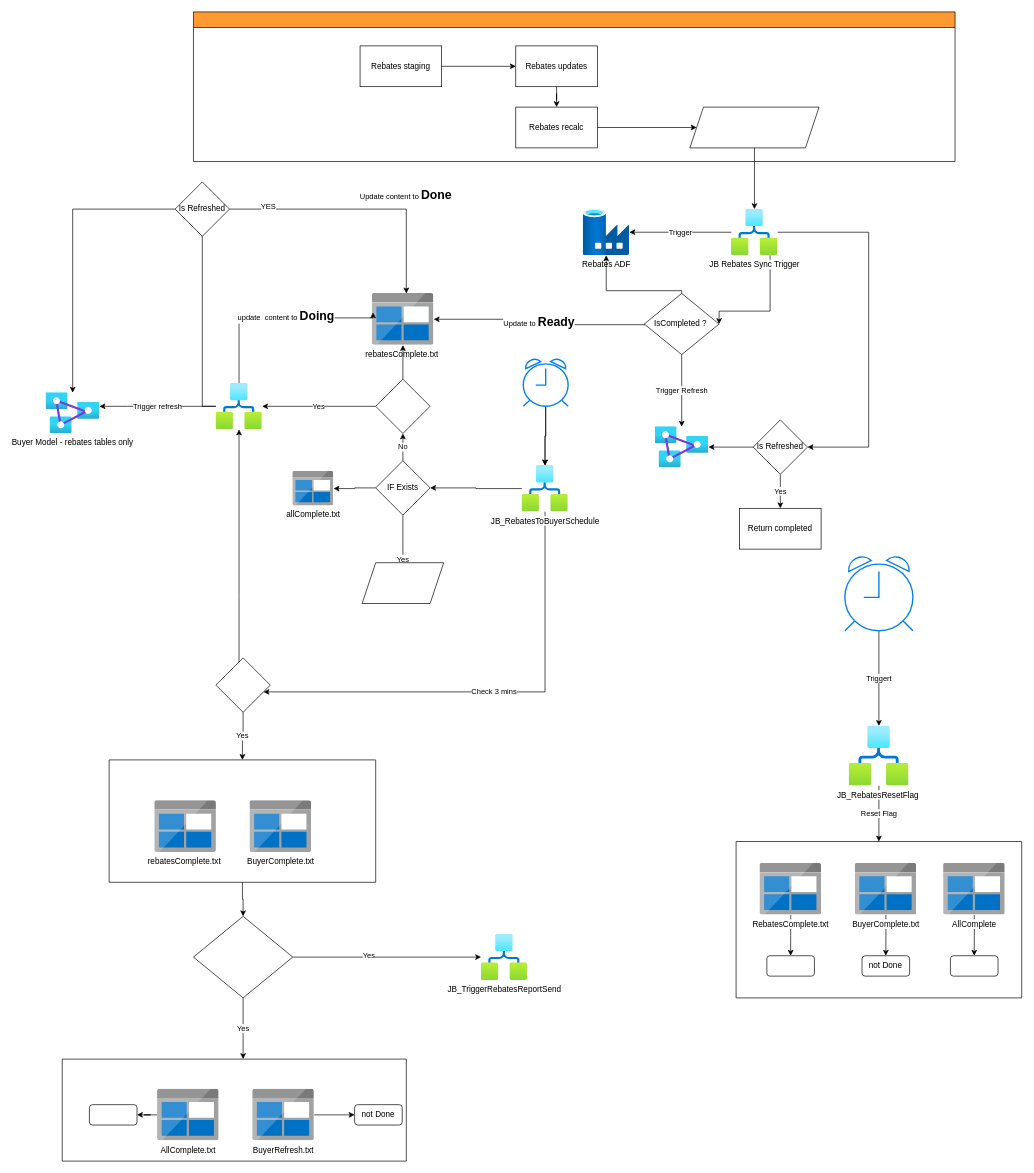
Some shapes in this 1034 by 1173 pixel diagram are drawn without their labels. Here are the shapes that lost their labels. From the top down, the box of each, then its label:
(193, 11, 955, 162): JB HiFi
(689, 106, 819, 148): Send HTTP requrest to Vnet
(522, 358, 568, 407): 6,9,12,15,18 AEST
(216, 383, 262, 429): JB_RebatesSynctoBuyer
(375, 378, 430, 434): Is Ready ?
(655, 426, 708, 467): Rebates Models
(361, 562, 444, 604): Do Nothing
(844, 555, 913, 631): 11:55 pm AEST
(215, 657, 270, 712): Is completed
(193, 916, 293, 998): If all content = Done
(766, 955, 814, 976): null
(950, 955, 998, 976): not true
(89, 1104, 137, 1125): true
